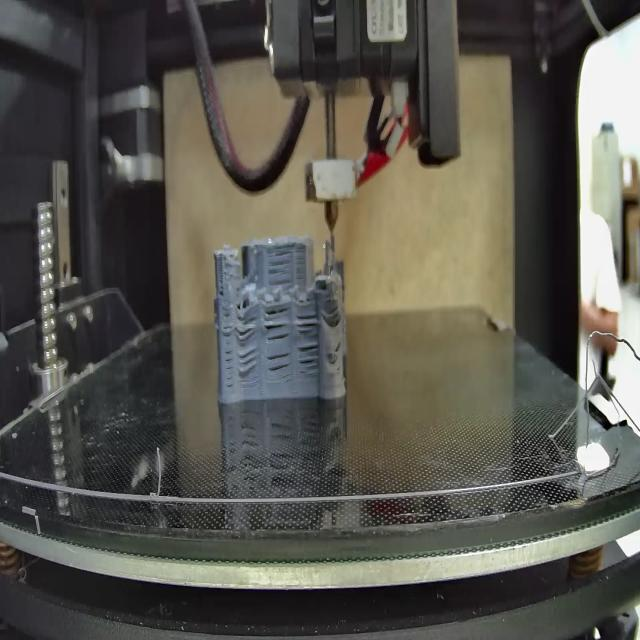cracks: (265, 305, 292, 346), (269, 242, 294, 286), (221, 312, 232, 390), (296, 345, 321, 374), (266, 352, 292, 379), (237, 350, 260, 378), (295, 310, 318, 336), (236, 316, 258, 340), (217, 278, 228, 300), (330, 303, 342, 323), (334, 339, 340, 354)
